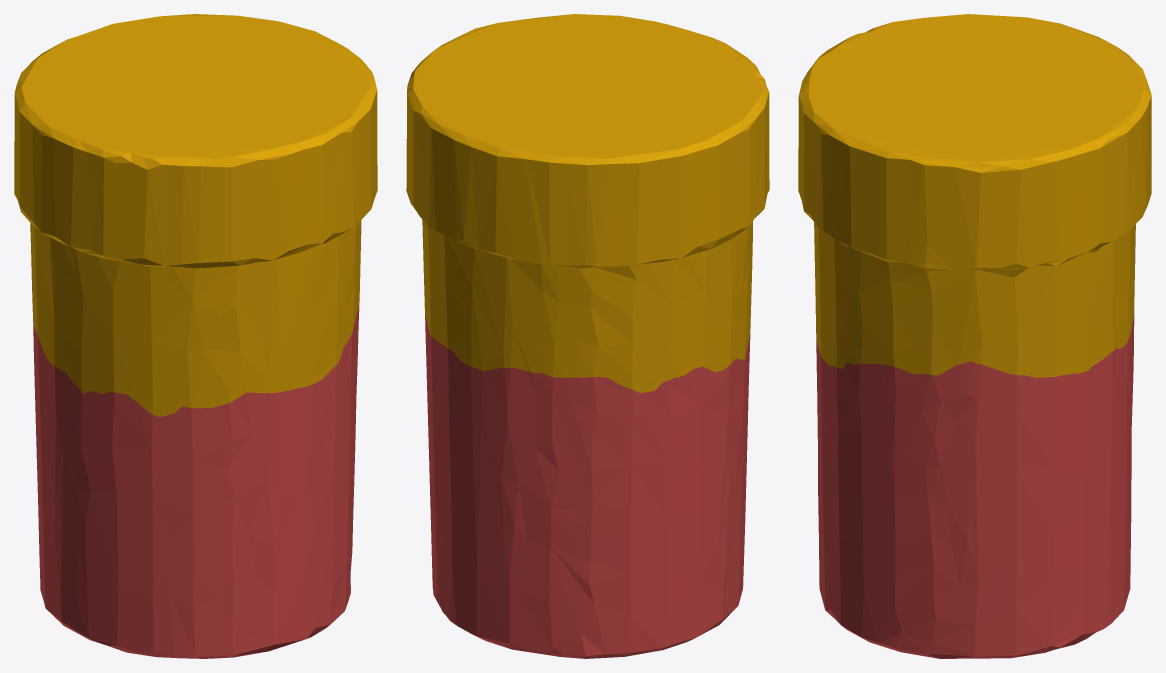
Rendered from mode_1_2pcs.glb.
3 renders of one model, left to right at view 1: azimuth 30°, elevation 25°; view 2: azimuth 150°, elevation 25°; view 3: azimuth 270°, elevation 25°, orthographic.
Parts seen in each view (by area): view 1: piece_0.obj, piece_1.obj; view 2: piece_0.obj, piece_1.obj; view 3: piece_0.obj, piece_1.obj.
Boxes of the visible parts, x1=… form: piece_0.obj: x1=14, y1=14, x2=377, y2=417; piece_1.obj: x1=33, y1=306, x2=359, y2=658; piece_0.obj: x1=406, y1=14, x2=769, y2=392; piece_1.obj: x1=425, y1=316, x2=750, y2=658; piece_0.obj: x1=798, y1=14, x2=1151, y2=377; piece_1.obj: x1=816, y1=315, x2=1134, y2=658.
Size of the model in its own units: 0.6494 by 0.9998 by 0.6278.
